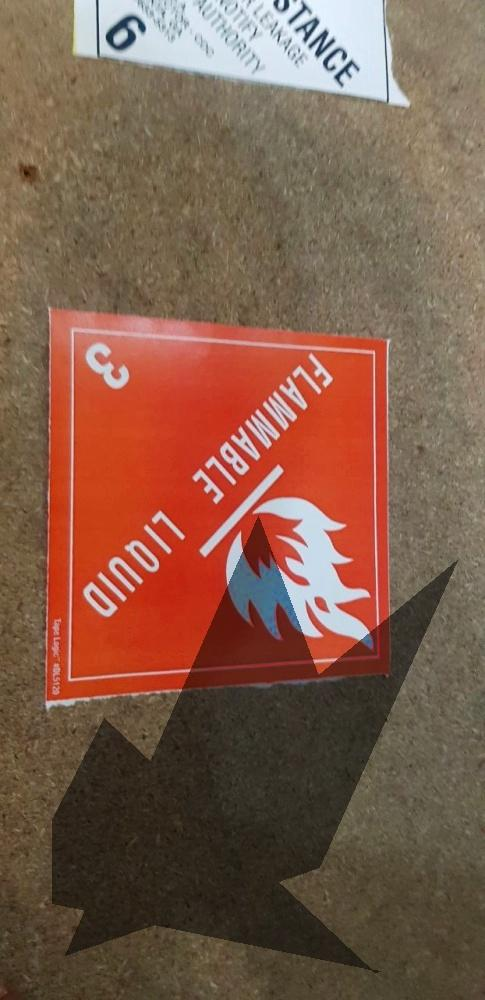flammable: (48, 306, 391, 707)
